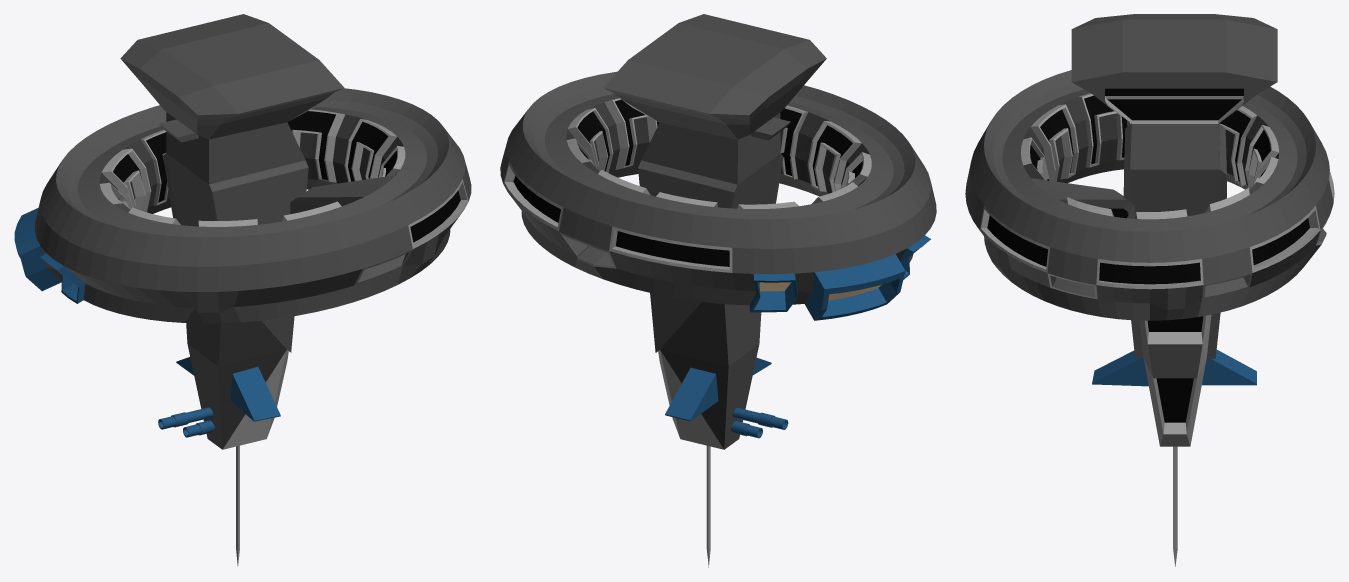
The model's file is Spacestation.fbx.
3 views of the same model, side by side, from view 1: azimuth 30°, elevation 25°; view 2: azimuth 150°, elevation 25°; view 3: azimuth 270°, elevation 25° (orthographic). The views are drawn at different scales.
Visible parts, largest first — view 1: Ship disk, Ship body; view 2: Ship disk, Ship body; view 3: Ship disk, Ship body.
Boxes of the visible parts, box(x1,y1,x2,y2) form: Ship disk: box(14, 88, 471, 323); Ship body: box(120, 14, 344, 566); Ship disk: box(500, 71, 936, 320); Ship body: box(603, 14, 826, 567); Ship disk: box(965, 70, 1334, 320); Ship body: box(1071, 14, 1277, 566).
Bounding box in the file's own units: 326 × 391 × 250.
